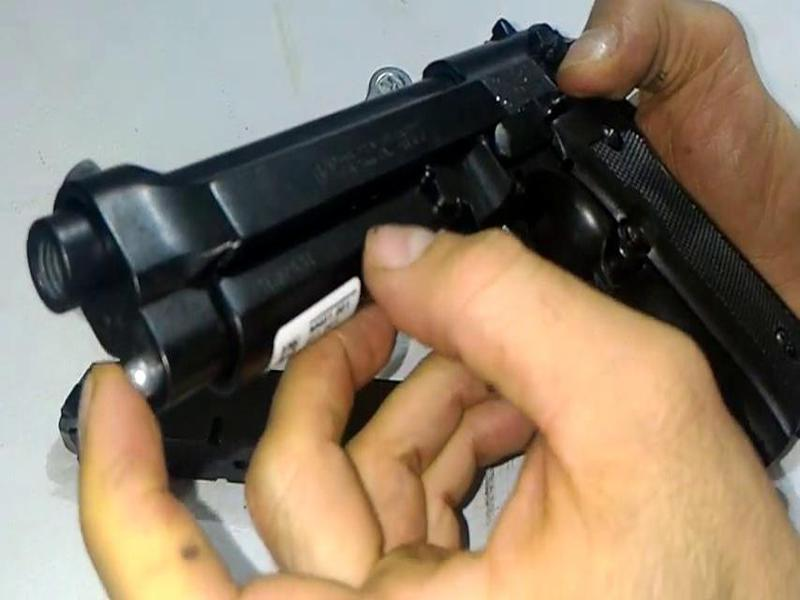Pistola: (26, 28, 800, 518)
